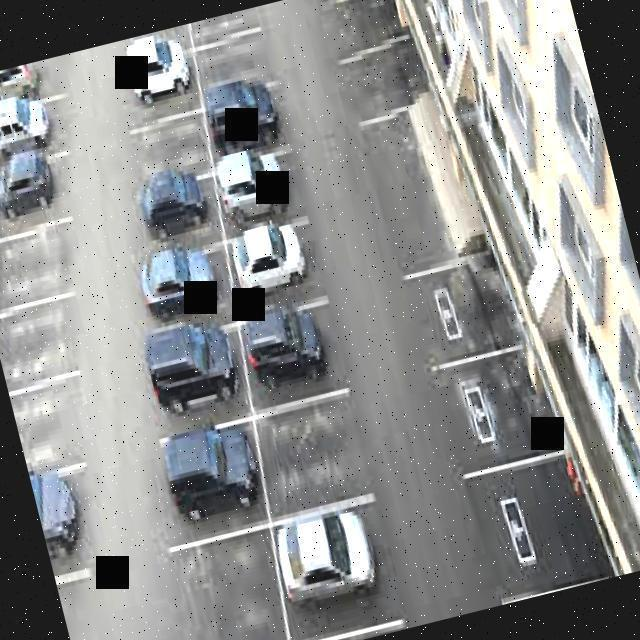space-empty: (459, 452, 606, 595), (249, 387, 377, 517), (429, 347, 559, 470), (164, 524, 292, 640), (400, 250, 523, 367), (7, 370, 96, 471), (0, 290, 82, 377), (130, 98, 220, 176), (342, 35, 428, 116), (0, 217, 80, 300), (191, 25, 271, 96), (324, 0, 413, 53)
space-occupied: (264, 504, 397, 640), (157, 416, 272, 527), (232, 297, 345, 400), (145, 323, 254, 425), (222, 220, 328, 306), (138, 250, 239, 334), (30, 467, 107, 577), (211, 147, 310, 231), (135, 171, 225, 256), (200, 82, 290, 152), (0, 150, 74, 225), (125, 43, 203, 106), (0, 99, 68, 163), (0, 59, 54, 112)
